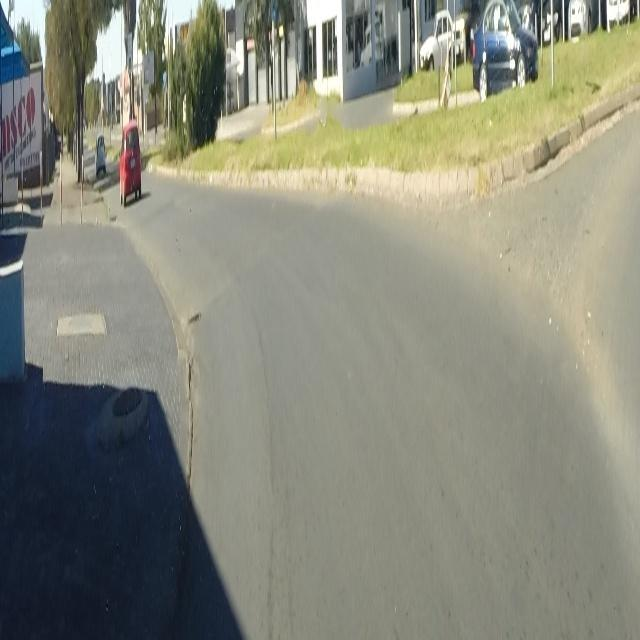pothole: (187, 308, 202, 329)
